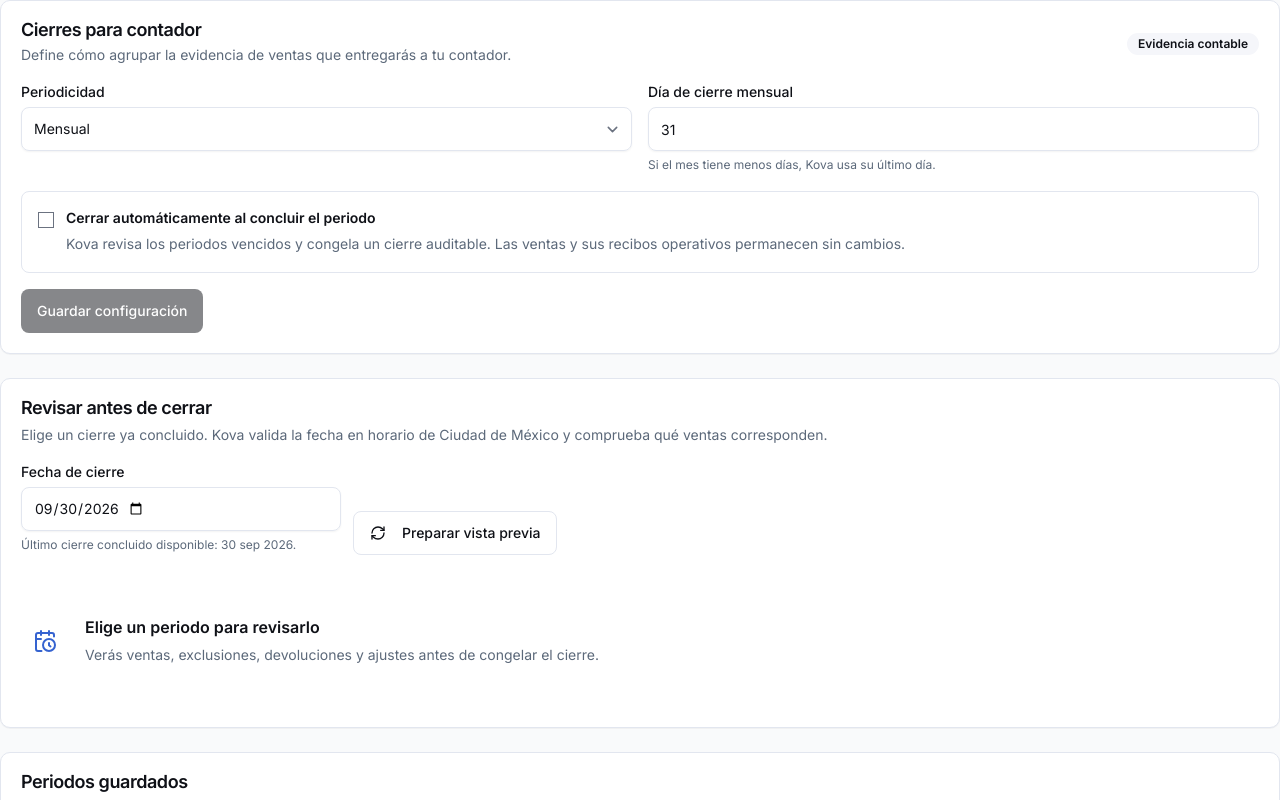
Test: FiscalGlobalDraftsPanel › invalidates a prepared preview when settings become dirty
The width and height of the screenshot is (1280, 800).
Type "2024-02-29" into the date field labelled "Fecha de cierre" at coordinates (181, 509), box [21,487,341,531]
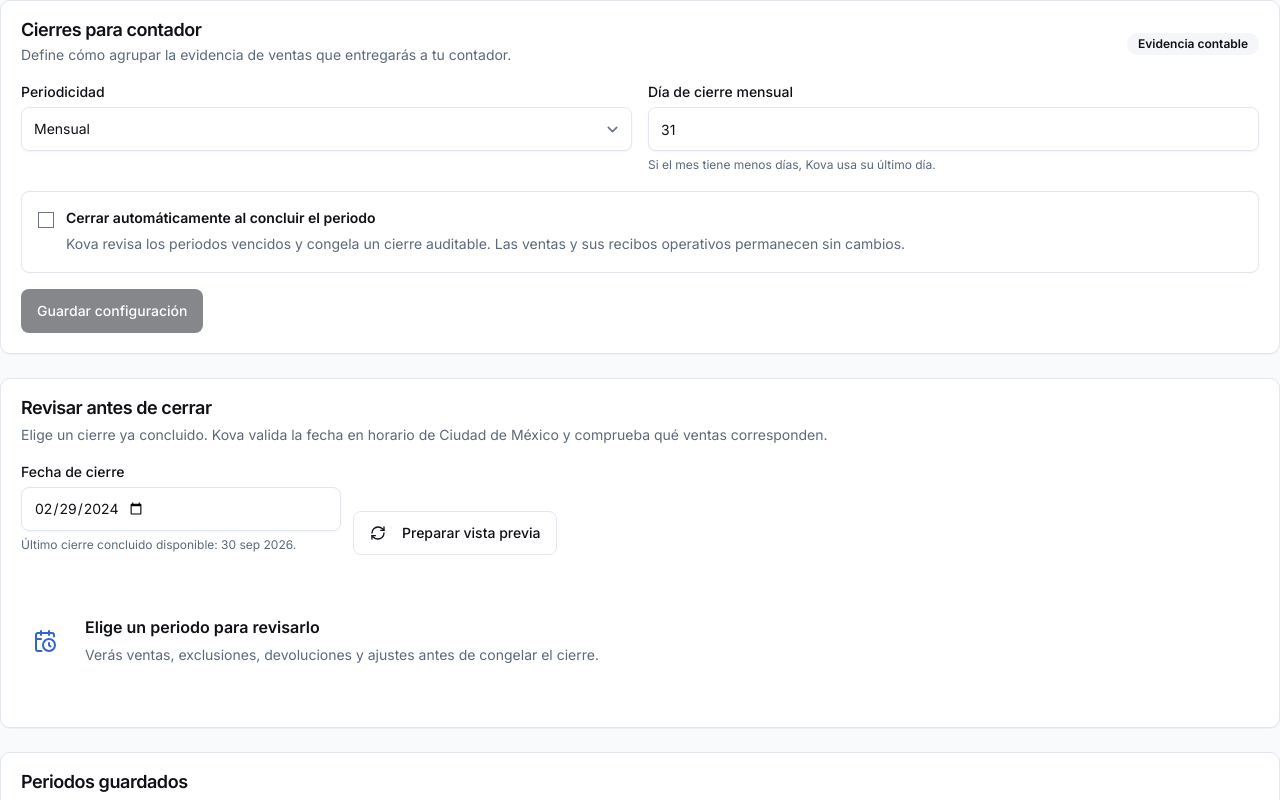
Click the button "Preparar vista previa" at coordinates (455, 533), box [353,511,558,555]
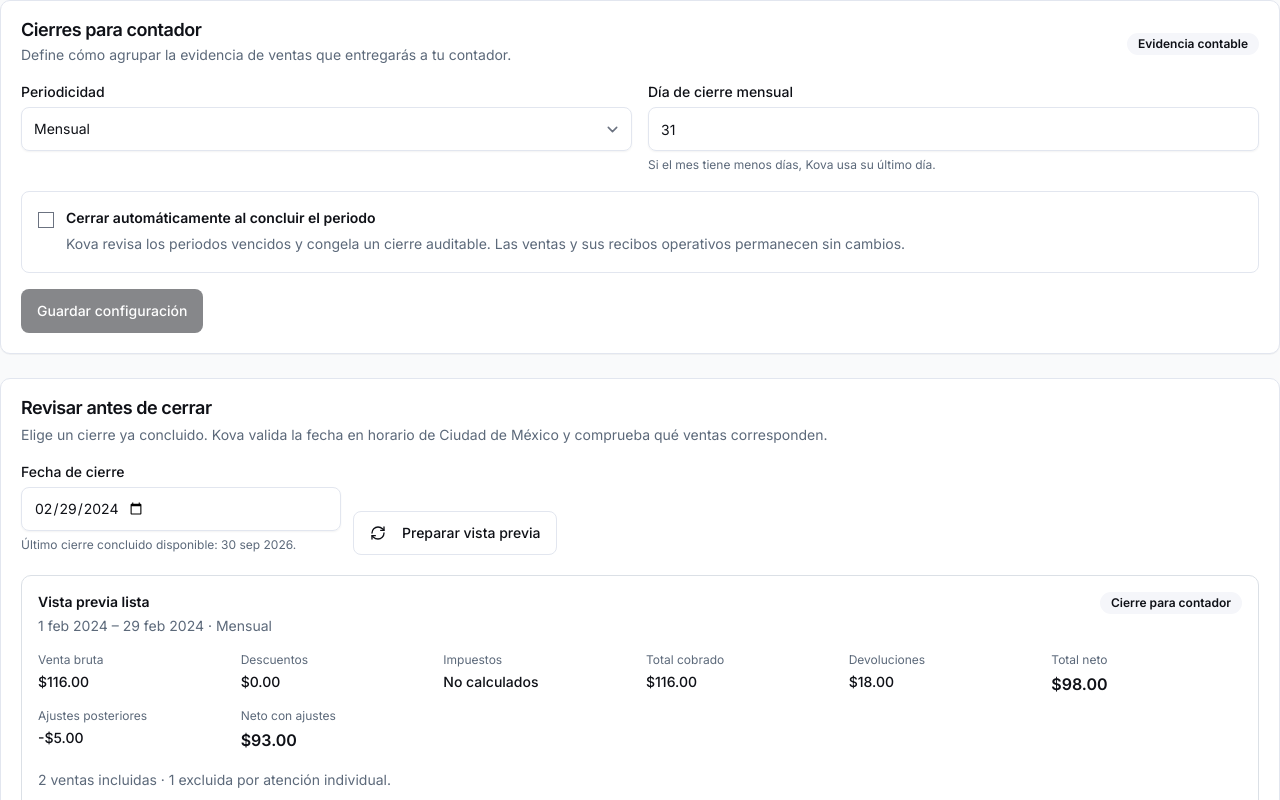
Result: the text "Vista previa lista" is shown at [38,593,150,610]
Replace the text in the number field labelled "Día de cierre mensual" with "15" at coordinates (954, 129), box [648,107,1259,151]
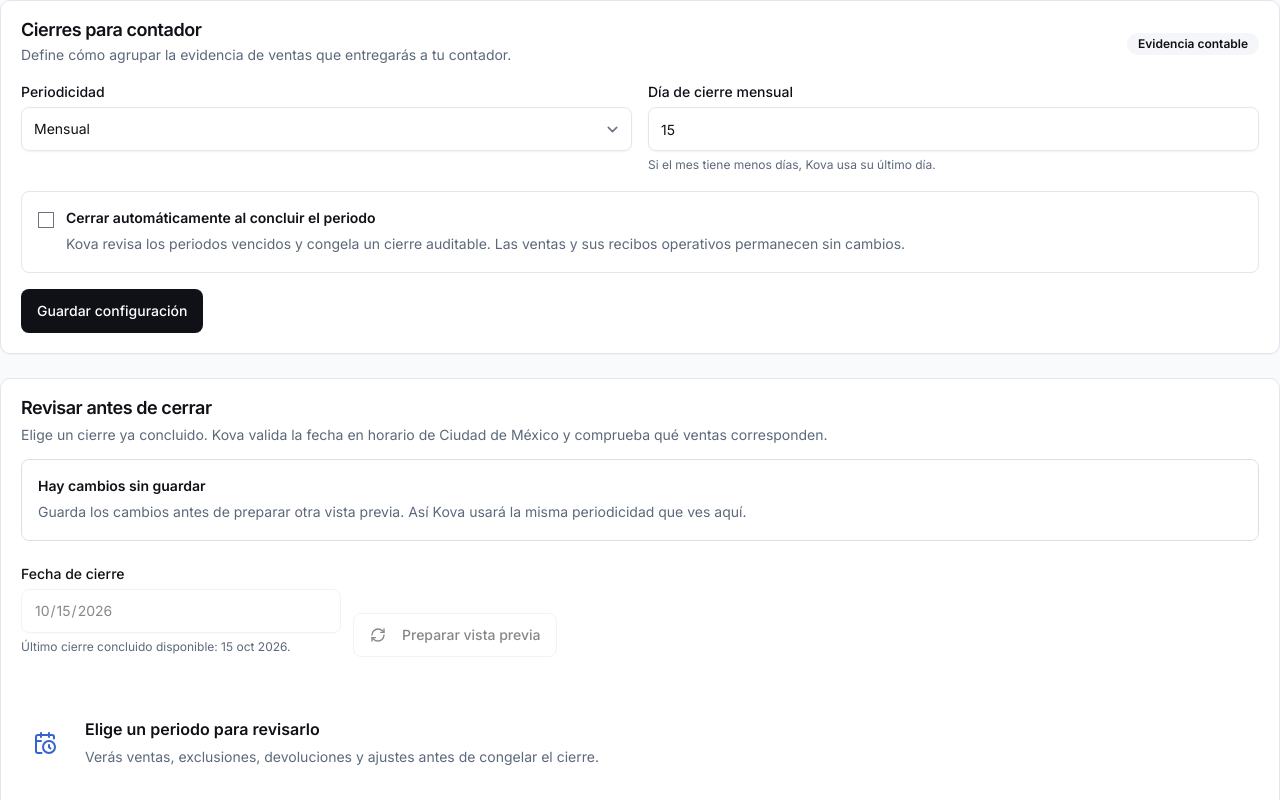
Result: the text "Vista previa lista" is gone
Result: the text "Hay cambios sin guardar" is shown at [38,477,206,494]
Result: the date field labelled "Fecha de cierre" is disabled at [21,589,341,633]
